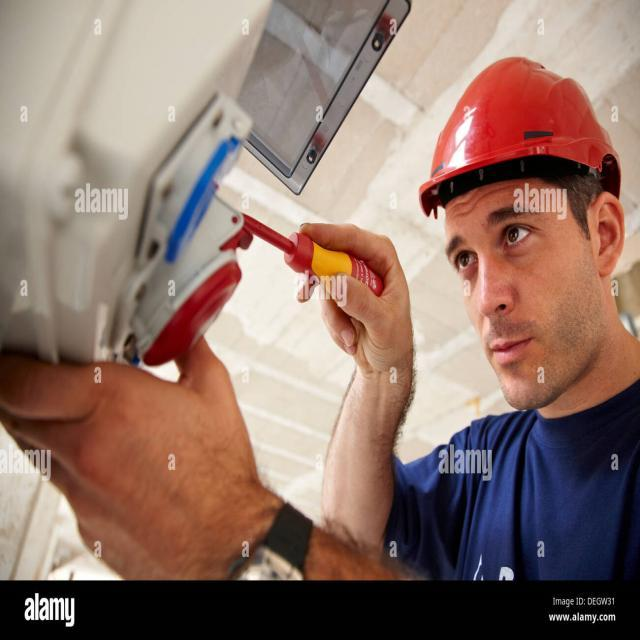screwdriver: (216, 192, 390, 308)
